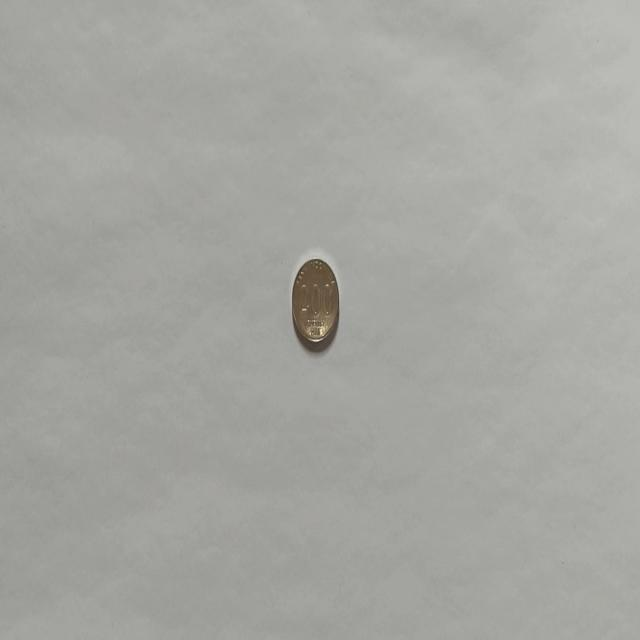dua ratus rupiah: (290, 256, 340, 346)
